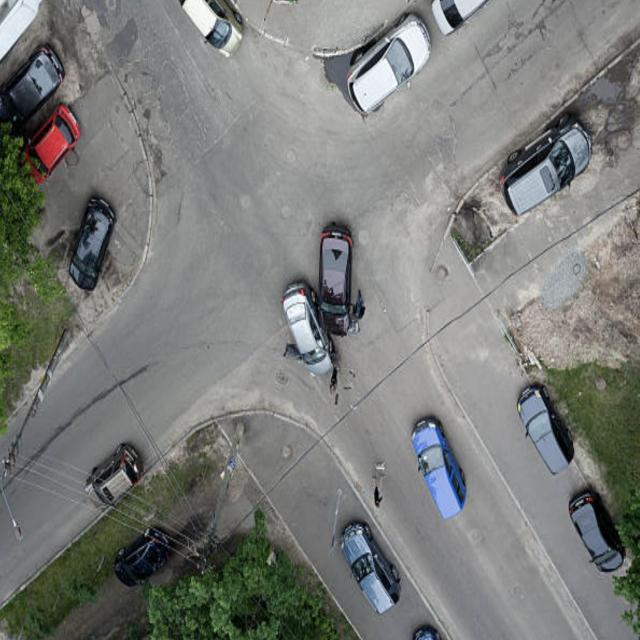moderate: (278, 223, 362, 382)
